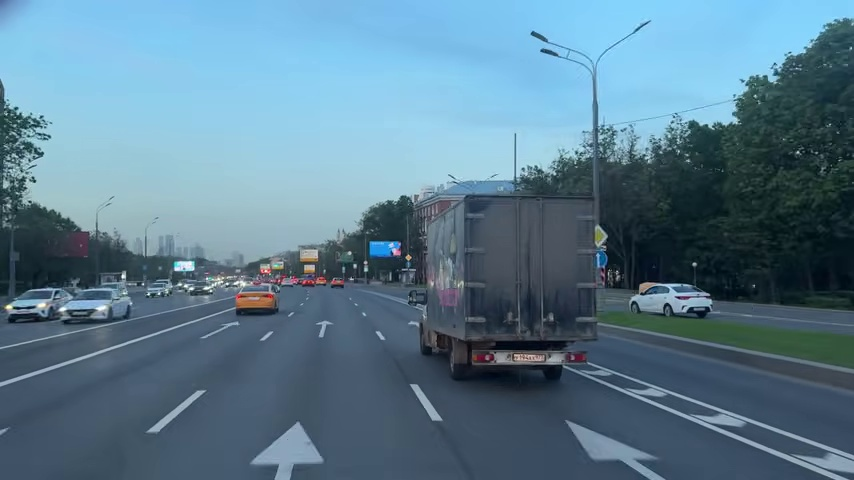apagada: (526, 28, 557, 61), (180, 387, 206, 412), (629, 19, 651, 38), (102, 196, 116, 210)
